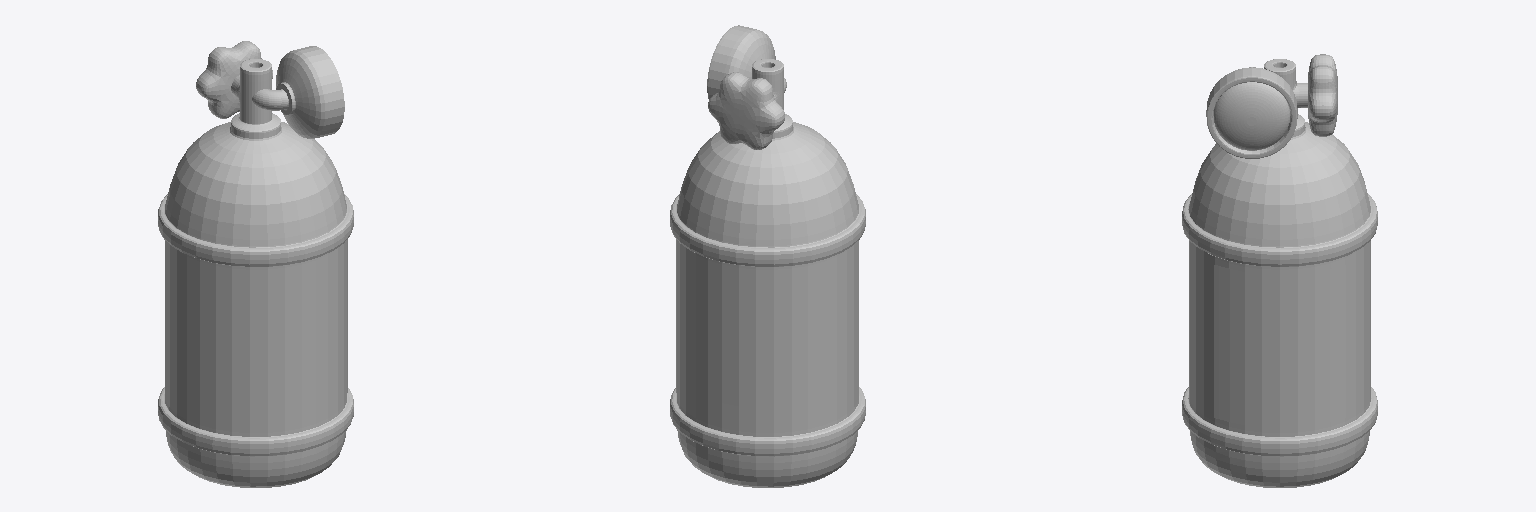
The model's file is boost.obj.
The picture shows the model from 3 angles: view 1: azimuth 30°, elevation 25°; view 2: azimuth 150°, elevation 25°; view 3: azimuth 270°, elevation 25°; orthographic projection.
Parts seen in each view (by area): view 1: object_0; view 2: object_0; view 3: object_0, object_1, object_2.
Boxes of the visible parts, x1=… form: object_0: x1=158, y1=41, x2=353, y2=487; object_0: x1=670, y1=25, x2=865, y2=487; object_0: x1=1182, y1=54, x2=1377, y2=487; object_1: x1=1214, y1=265, x2=1345, y2=427; object_2: x1=1214, y1=82, x2=1289, y2=150.
Size of the model in its own units: 52.55 by 121 by 52.55.